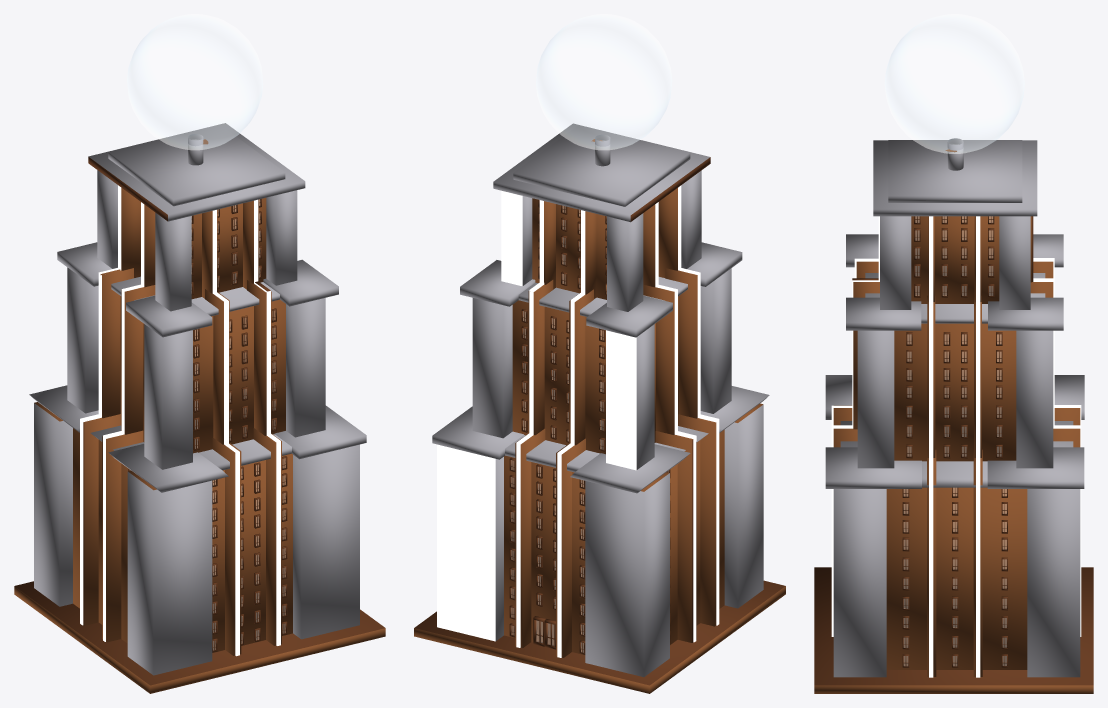
File: dailyPlanet.glb
3 views of the same model, side by side, from view 1: azimuth 30°, elevation 25°; view 2: azimuth 150°, elevation 25°; view 3: azimuth 270°, elevation 25° (orthographic). The views are drawn at different scales.
Parts seen in each view (by area): view 1: DailyPlanet - Building; view 2: DailyPlanet - Building; view 3: DailyPlanet - Building.
Boxes of the visible parts, left/top/right/bottom form: DailyPlanet - Building: left=14, top=14, right=385, bottom=693; DailyPlanet - Building: left=414, top=14, right=785, bottom=693; DailyPlanet - Building: left=814, top=14, right=1093, bottom=693.
Bounding box in the file's own units: 33.02 × 79.84 × 33.02.
